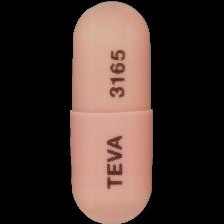55154-8289: (0, 0, 224, 224)
